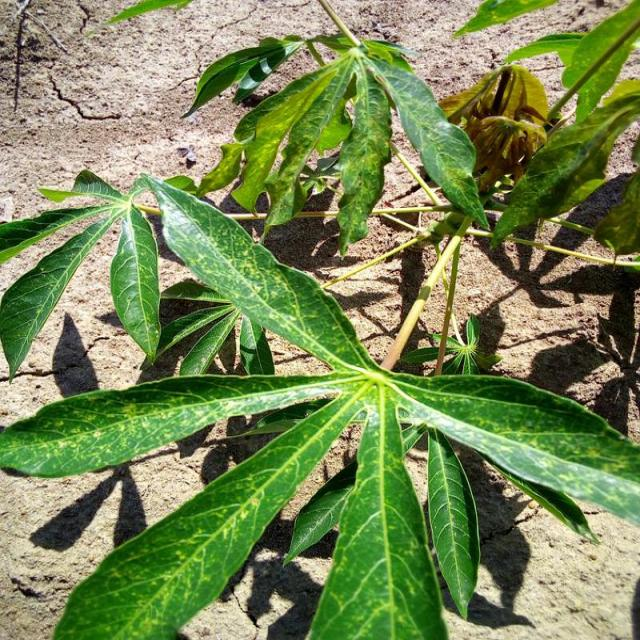cassava leaf: (1, 168, 638, 638), (304, 384, 449, 638)
